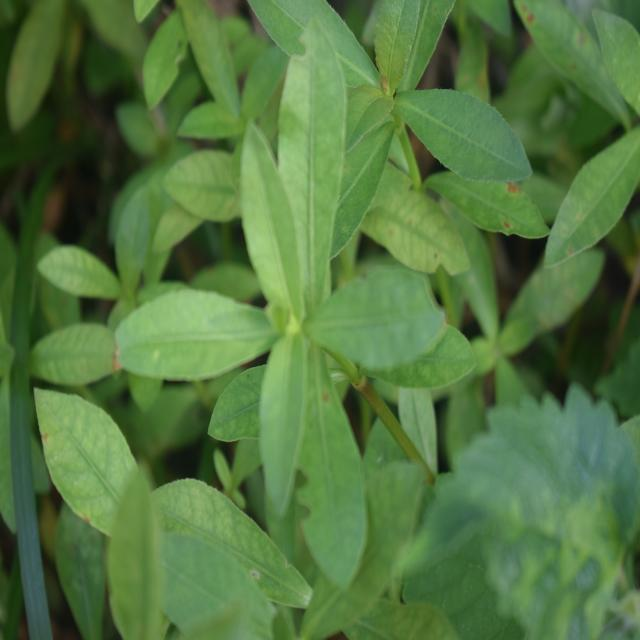Alligatorweed: (147, 105, 414, 540), (263, 0, 538, 275)
